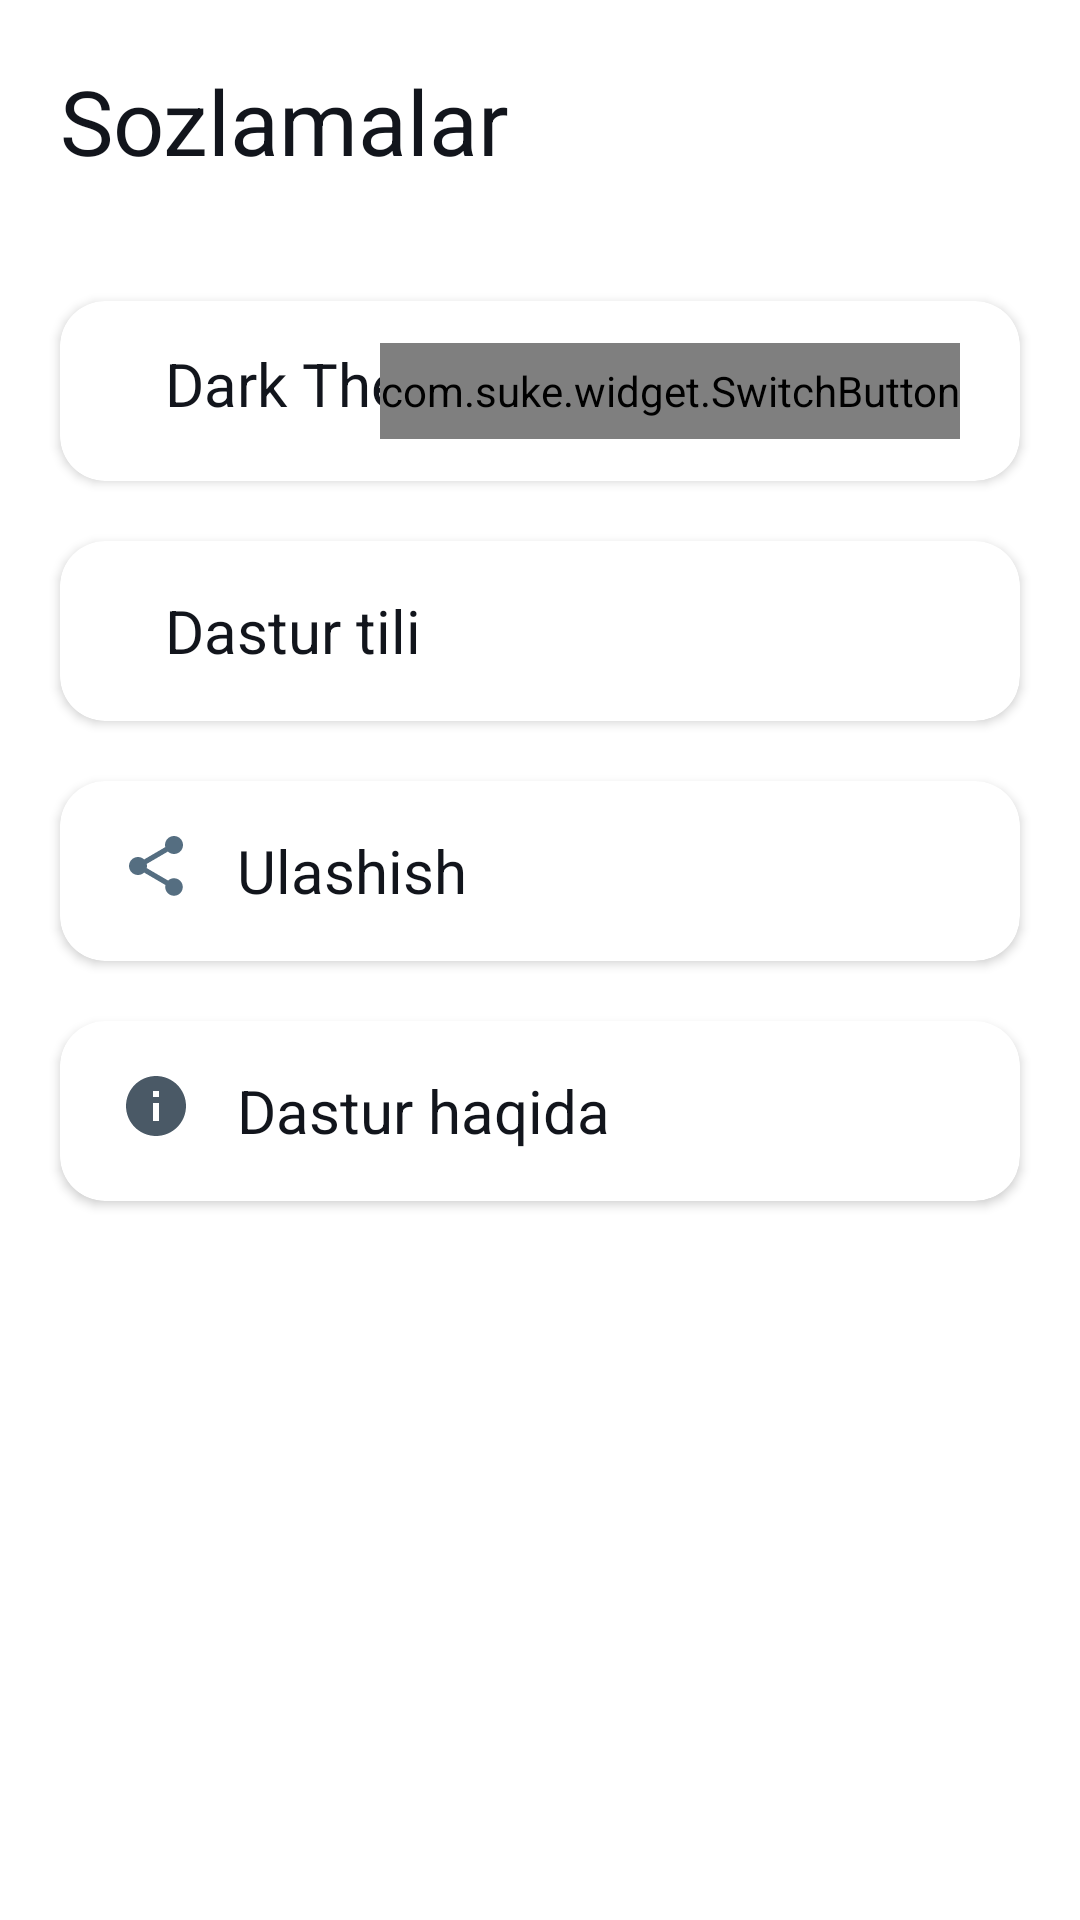

Icon click points for this 1080x1920 phone screenshot, format point (x, y):
info: point (156, 1106)
share: point (156, 866)
